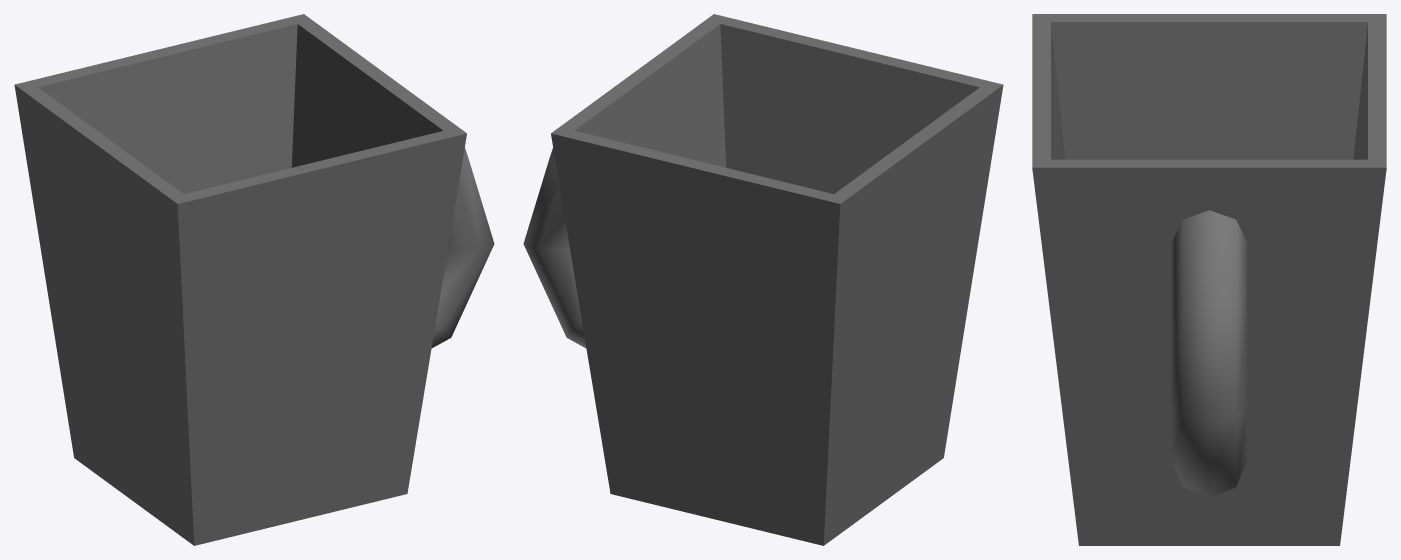
Rendered from Itr_Obj_Cup1_05.FBX.
3 renders of one model, left to right at view 1: azimuth 30°, elevation 25°; view 2: azimuth 150°, elevation 25°; view 3: azimuth 270°, elevation 25°, orthographic. The views are drawn at different scales.
Visible parts, largest first — view 1: Itr_Obj_Cup1_05; view 2: Itr_Obj_Cup1_05; view 3: Itr_Obj_Cup1_05.
Part boxes in pixels (x1=…): Itr_Obj_Cup1_05: x1=14, y1=14, x2=494, y2=545; Itr_Obj_Cup1_05: x1=523, y1=14, x2=1003, y2=545; Itr_Obj_Cup1_05: x1=1032, y1=14, x2=1386, y2=545.
Size of the model in its own units: 6.33 by 5.62 by 4.53.
